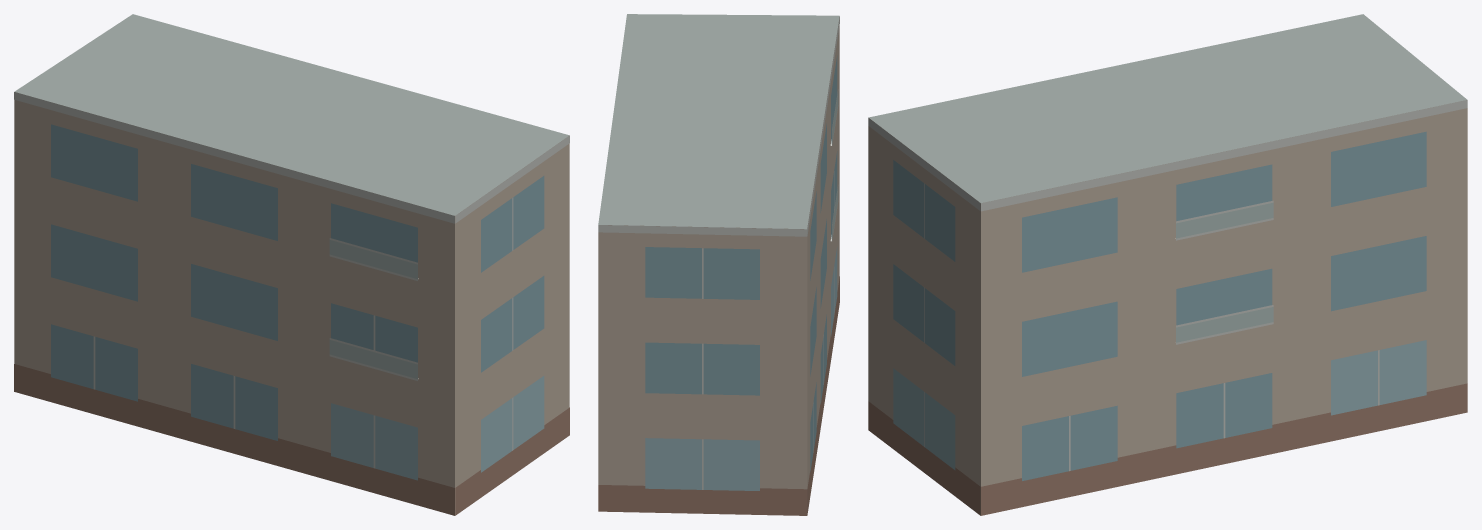
The model's file is survey-upis-33025249.glb.
3 renders of one model, left to right at view 1: azimuth 30°, elevation 25°; view 2: azimuth 150°, elevation 25°; view 3: azimuth 270°, elevation 25°, orthographic. The views are drawn at different scales.
Visible parts, largest first — view 1: survey-upis-33025249.tmp; view 2: survey-upis-33025249.tmp; view 3: survey-upis-33025249.tmp.
Part boxes in pixels (x1,y1,x2,y2): survey-upis-33025249.tmp: [14, 14, 569, 515]; survey-upis-33025249.tmp: [598, 14, 839, 515]; survey-upis-33025249.tmp: [868, 14, 1467, 515].
Size of the model in its own units: 12.02 by 9.25 by 16.08.
